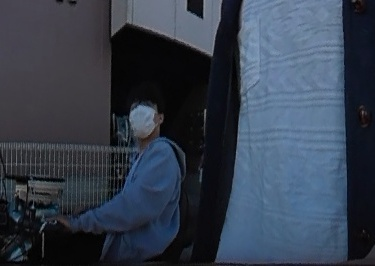person: (41, 88, 185, 257)
